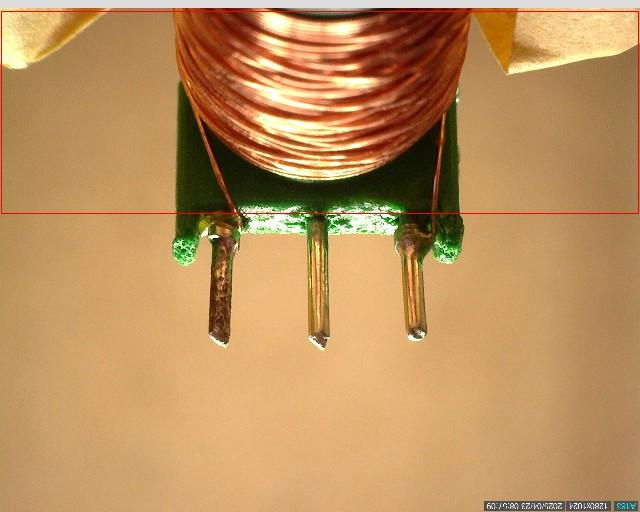obsolete: (190, 215, 241, 364)
